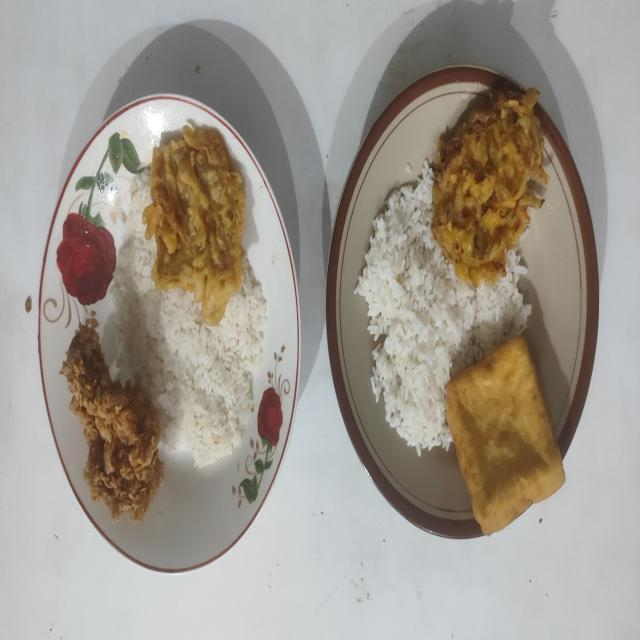nasi_putih: (355, 160, 531, 456), (110, 170, 268, 467)
tahu_goreng: (446, 336, 564, 534)
